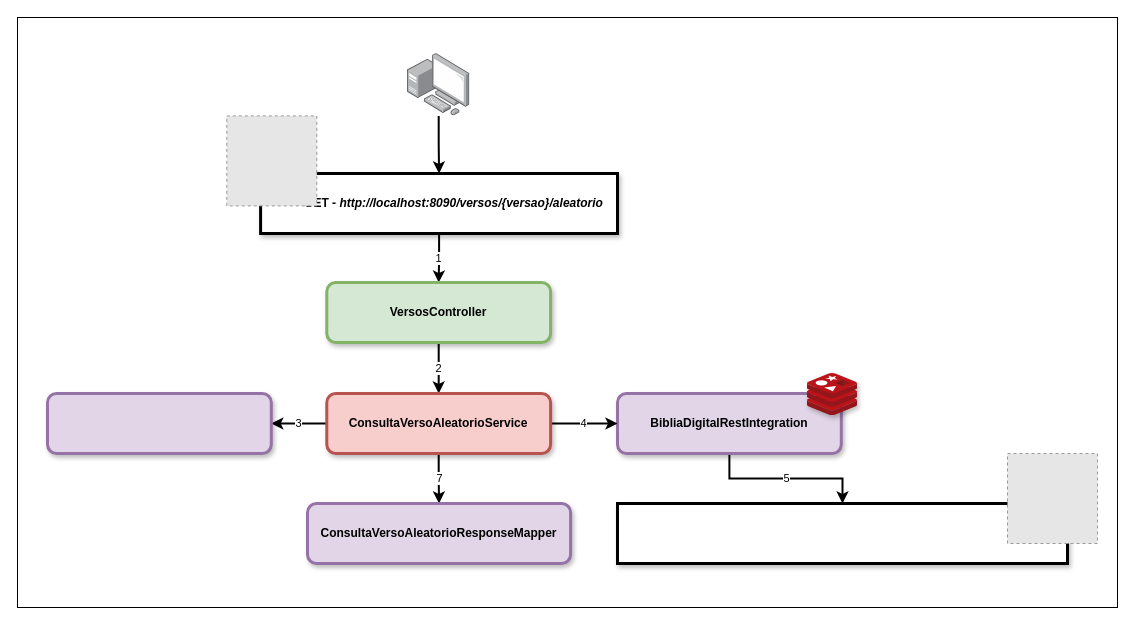
Image size: 1135x625. Some labels were removed from this diagram. Grey dashed boxes stand in for pictures. The centre of each missing label's shape, as x and y in pixels:
"GET - https://www.abibliadigital.com.br/api/verses/{versao}/random" belongs at point 843,535.
"VersaoValidator" belongs at point 160,425.
